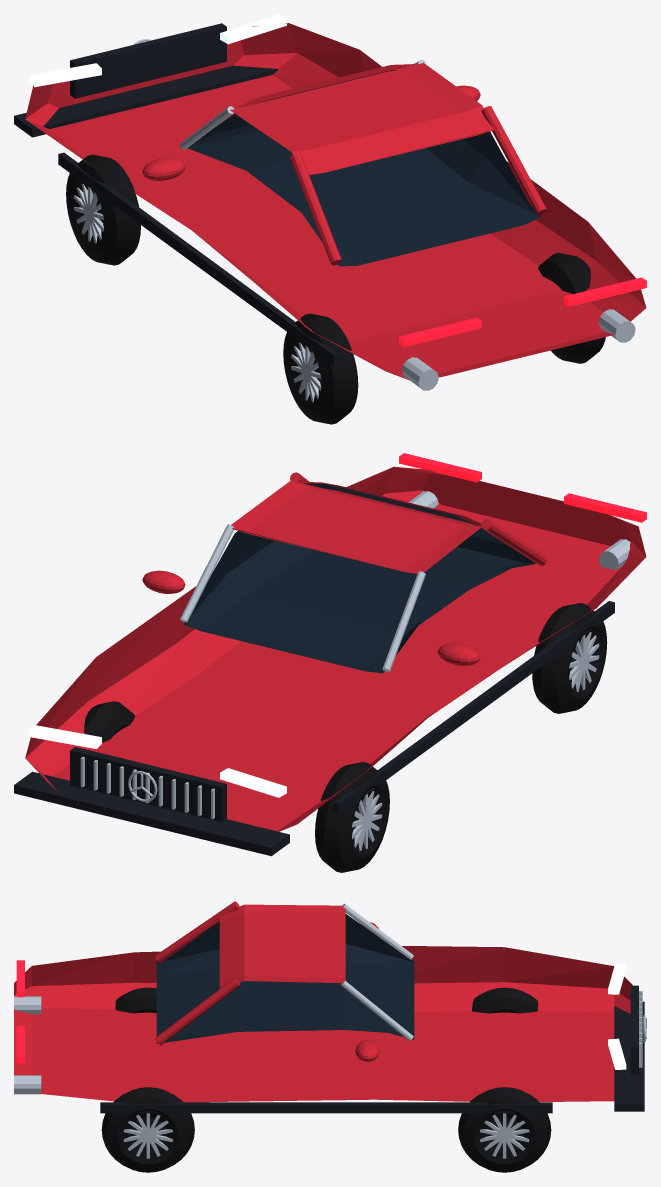
File: mercedes-gt.glb
3 views of the same model, one above another, from view 1: azimuth 30°, elevation 25°; view 2: azimuth 150°, elevation 25°; view 3: azimuth 270°, elevation 25° (orthographic). The views are drawn at different scales.
Visible parts, largest first — view 1: body, wheel-2, wheel-0, wheel-3; view 2: body, wheel-0, wheel-2, wheel-1; view 3: body, wheel-1, wheel-3, wheel-0, wheel-2.
Part boxes in pixels (left/top/right/bottom): body: left=14, top=14, right=646, bottom=390; wheel-2: left=283, top=313, right=358, bottom=424; wheel-0: left=66, top=154, right=140, bottom=265; wheel-3: left=538, top=253, right=605, bottom=363; body: left=14, top=453, right=646, bottom=856; wheel-0: left=315, top=762, right=389, bottom=872; wheel-2: left=532, top=603, right=607, bottom=713; wheel-1: left=84, top=701, right=135, bottom=742; body: left=14, top=901, right=646, bottom=1113; wheel-1: left=458, top=1087, right=551, bottom=1172; wheel-3: left=101, top=1087, right=194, bottom=1172; wheel-0: left=471, top=987, right=538, bottom=1013; wheel-2: left=115, top=987, right=156, bottom=1013.
Size of the model in its own units: 2.32 by 1.48 by 4.62.
